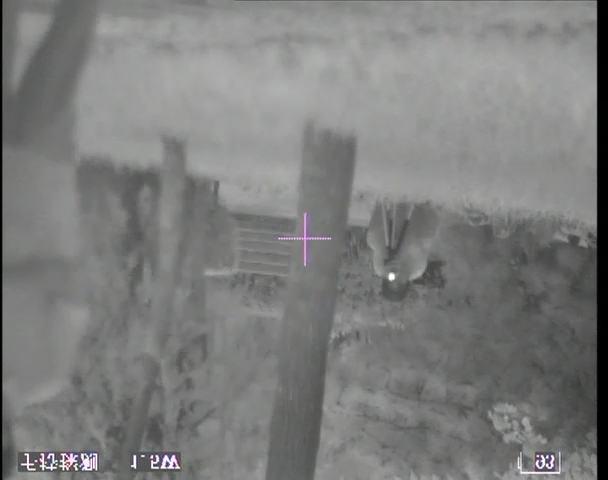my: (386, 270, 399, 283)
